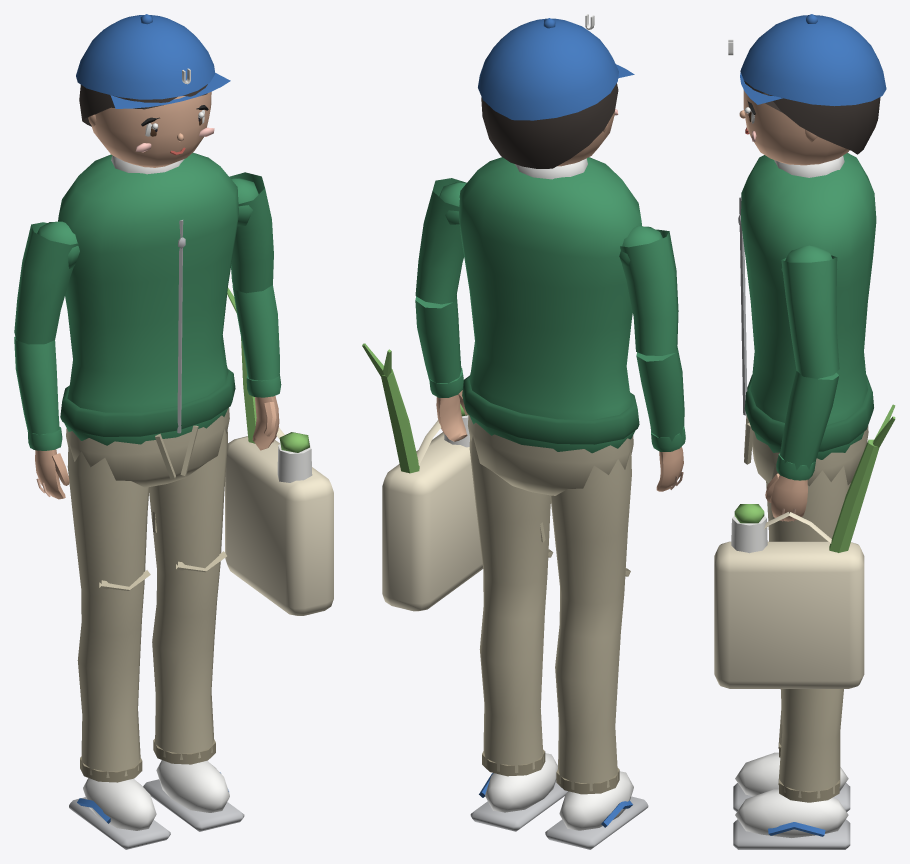
Rendered from townsman.glb.
3 views of the same model, side by side, from view 1: azimuth 30°, elevation 25°; view 2: azimuth 150°, elevation 25°; view 3: azimuth 270°, elevation 25° (orthographic).
Parts seen in each view (by area): view 1: townsman_body, townsman_arm_r, townsman_leg_l, townsman_leg_r, townsman_arm_l; view 2: townsman_body, townsman_arm_r, townsman_leg_l, townsman_leg_r, townsman_arm_l; view 3: townsman_body, townsman_arm_r, townsman_leg_r, townsman_leg_l.
Boxes of the visible parts, left/top/right/bottom form: townsman_body: left=58, top=14, right=238, bottom=487; townsman_arm_r: left=225, top=172, right=333, bottom=615; townsman_leg_l: left=67, top=441, right=170, bottom=849; townsman_leg_r: left=143, top=429, right=244, bottom=831; townsman_arm_l: left=14, top=221, right=79, bottom=499; townsman_body: left=458, top=14, right=641, bottom=495; townsman_arm_r: left=362, top=178, right=482, bottom=611; townsman_leg_l: left=545, top=449, right=648, bottom=849; townsman_leg_r: left=469, top=436, right=567, bottom=831; townsman_arm_l: left=619, top=226, right=685, bottom=491; townsman_body: left=728, top=14, right=886, bottom=486; townsman_arm_r: left=714, top=245, right=895, bottom=688; townsman_leg_r: left=733, top=460, right=850, bottom=849; townsman_leg_l: left=733, top=708, right=850, bottom=811.
Size of the model in its own units: 0.644 by 1.79 by 0.3627.
